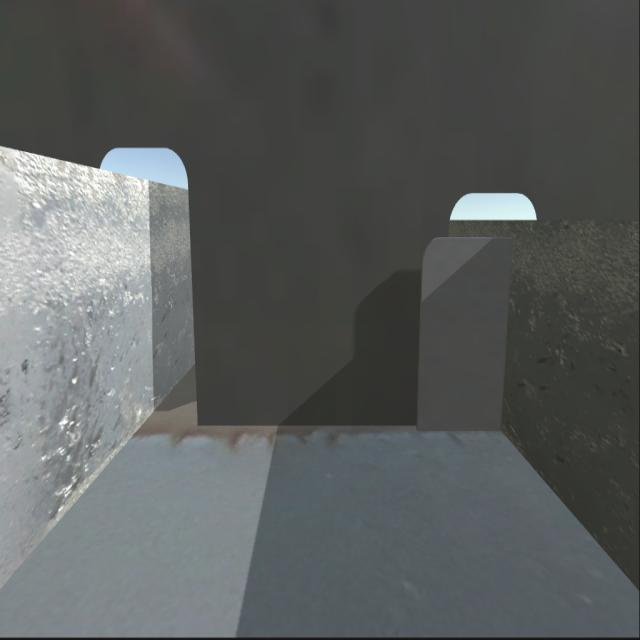fillet_yong_jeop_jang: (196, 414, 504, 436)
longi_yong_jeop_jang: (493, 241, 520, 439)
plate_CP05: (415, 237, 514, 427)
